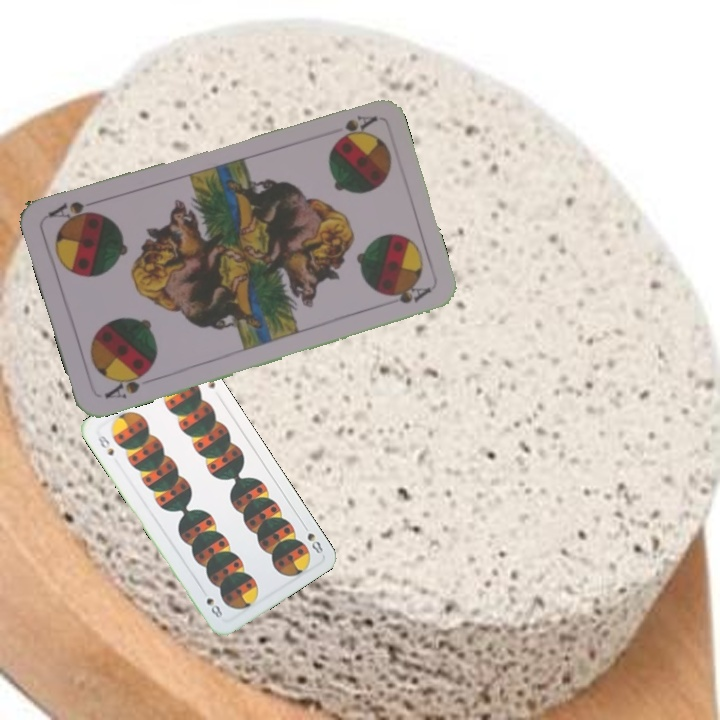S8: (298, 519, 326, 557), (93, 430, 116, 459)
SA: (100, 366, 153, 402), (334, 110, 379, 141)
